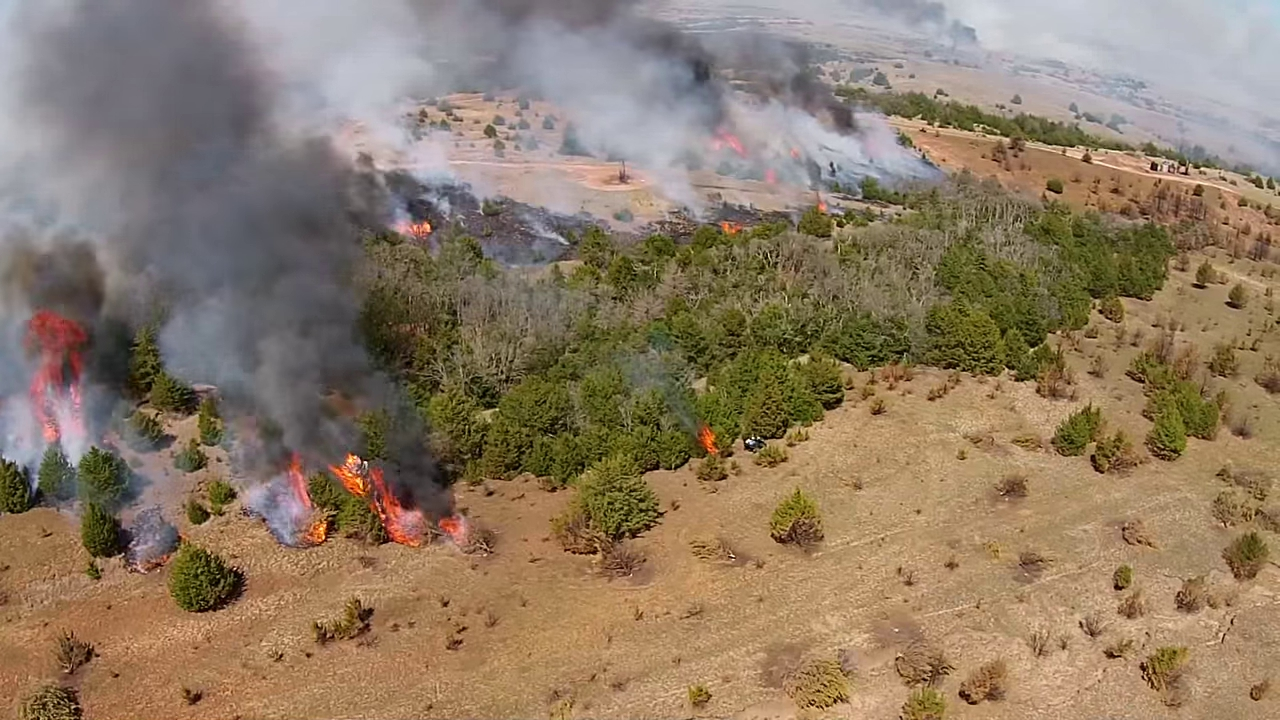forest_fire: (329, 453, 465, 546), (282, 453, 335, 546), (36, 409, 61, 442), (394, 220, 432, 238), (696, 424, 718, 454), (719, 221, 742, 235)
